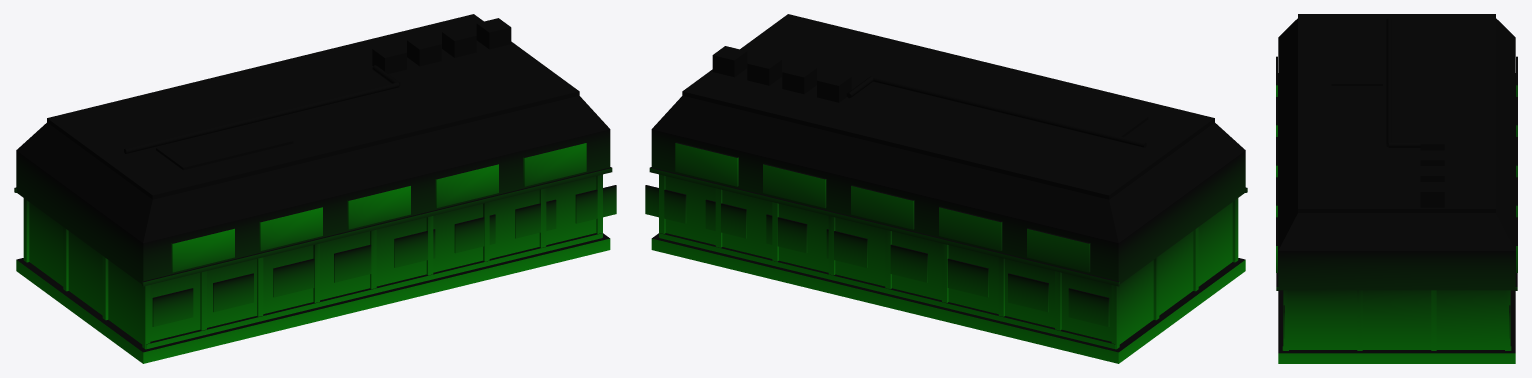
File: walkway.glb
3 renders of one model, left to right at view 1: azimuth 30°, elevation 25°; view 2: azimuth 150°, elevation 25°; view 3: azimuth 270°, elevation 25°, orthographic. The views are drawn at different scales.
Visible parts, largest first — view 1: lod0; view 2: lod0; view 3: lod0.
Part boxes in pixels (x1,y1,x2,y2): lod0: (14, 14, 616, 363); lod0: (645, 14, 1247, 363); lod0: (1276, 14, 1517, 363).
Size of what is drawn, in the model's own units: 26.05 by 9 by 12.22.
